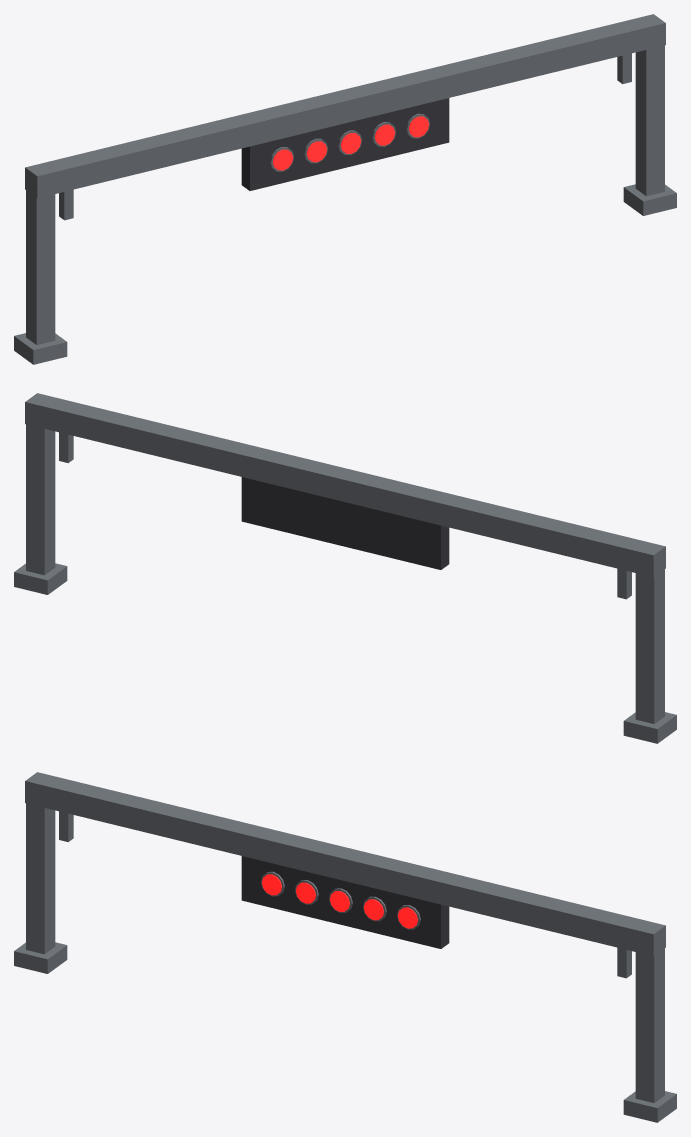
The model's file is Start_Gantry.fbx.
3 views of the same model, one above another, from view 1: azimuth 30°, elevation 25°; view 2: azimuth 150°, elevation 25°; view 3: azimuth 330°, elevation 25° (orthographic).
Visible parts, largest first — view 1: Start_Gantry; view 2: Start_Gantry; view 3: Start_Gantry.
Boxes of the visible parts, <box> form: Start_Gantry: <box>14,14,676,364</box>; Start_Gantry: <box>14,393,676,743</box>; Start_Gantry: <box>14,772,676,1122</box>.
Size of the model in its own units: 27.44 by 7.5 by 1.44.
